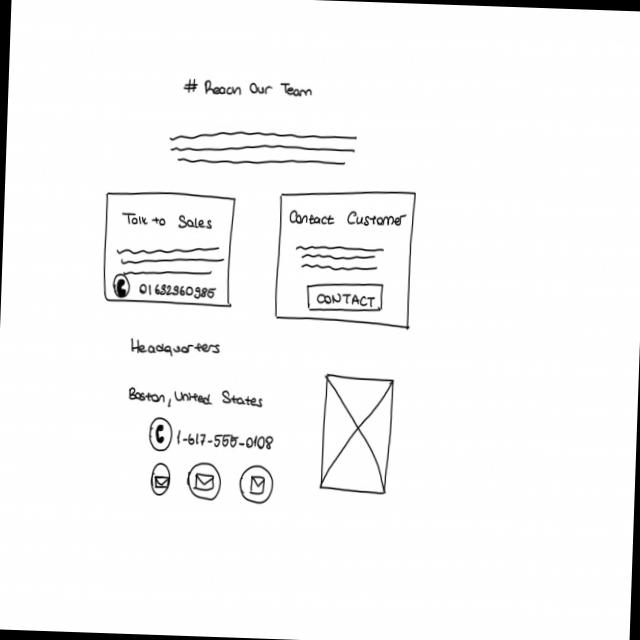button: (307, 281, 386, 316)
container: (274, 186, 417, 330), (103, 188, 238, 309)
icon-button: (187, 461, 223, 503), (239, 464, 275, 506), (149, 417, 175, 454), (151, 462, 172, 498), (113, 273, 132, 300)
image: (319, 375, 395, 497)
label: (126, 383, 266, 413), (181, 78, 316, 103), (289, 209, 410, 231), (177, 429, 277, 452), (130, 336, 223, 360), (121, 211, 215, 231), (138, 281, 220, 301)
text: (169, 128, 359, 172), (116, 242, 226, 279), (295, 243, 386, 273)
